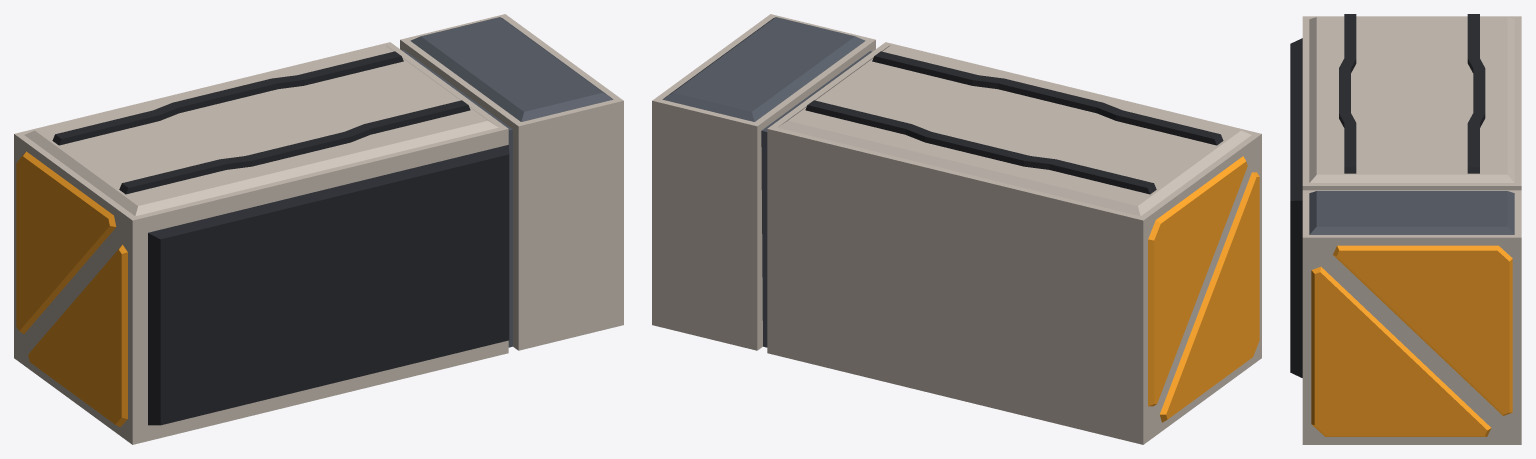
Rendered from SM_Microwave.glb.
The picture shows the model from 3 angles, left to right: view 1: azimuth 30°, elevation 25°; view 2: azimuth 150°, elevation 25°; view 3: azimuth 270°, elevation 25°; orthographic projection. The views are drawn at different scales.
Visible parts, largest first — view 1: SM_Microwave.001; view 2: SM_Microwave.001; view 3: SM_Microwave.001.
Boxes of the visible parts, x1,y1,x2,y2 form: SM_Microwave.001: (14, 14, 623, 444); SM_Microwave.001: (652, 14, 1261, 444); SM_Microwave.001: (1290, 14, 1521, 444).
Size of the model in its own units: 0.6121 by 0.2761 by 0.2653.
1 material, 1 textured.
